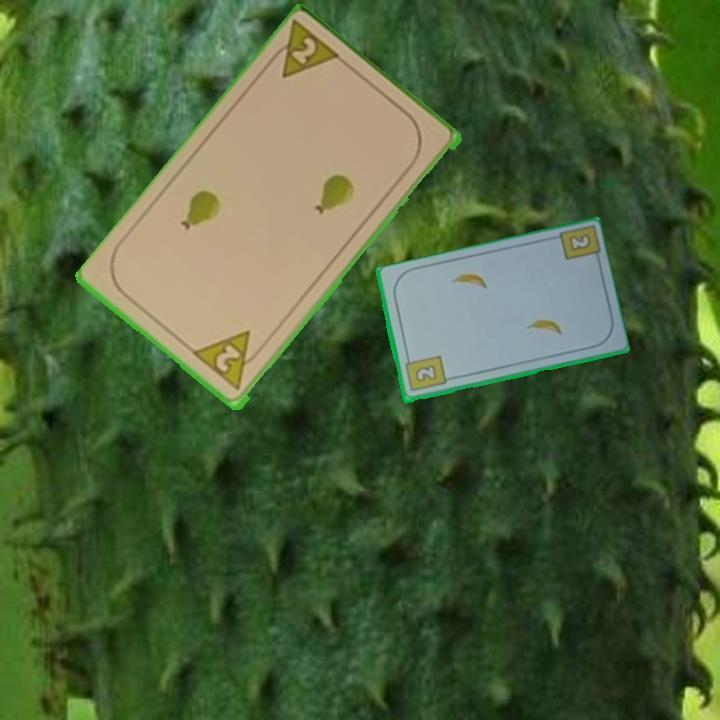2b: (401, 352, 448, 395), (565, 230, 594, 254)
2p: (262, 18, 346, 83), (191, 327, 267, 394)
